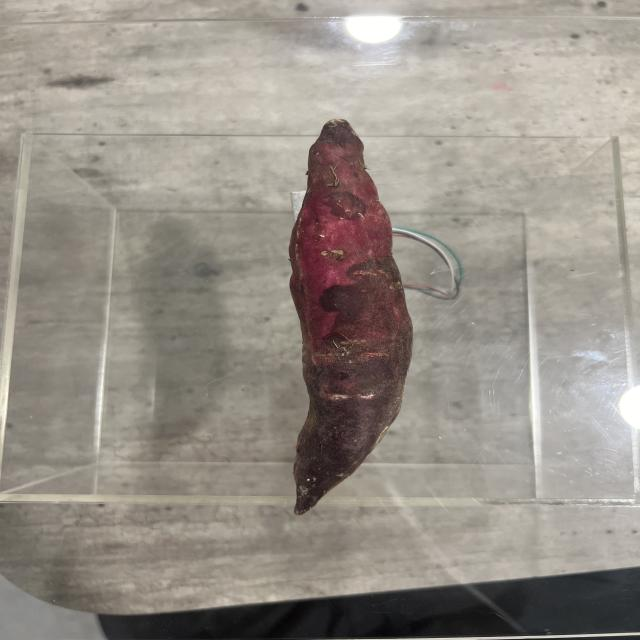sweet potato: (284, 116, 418, 524)
